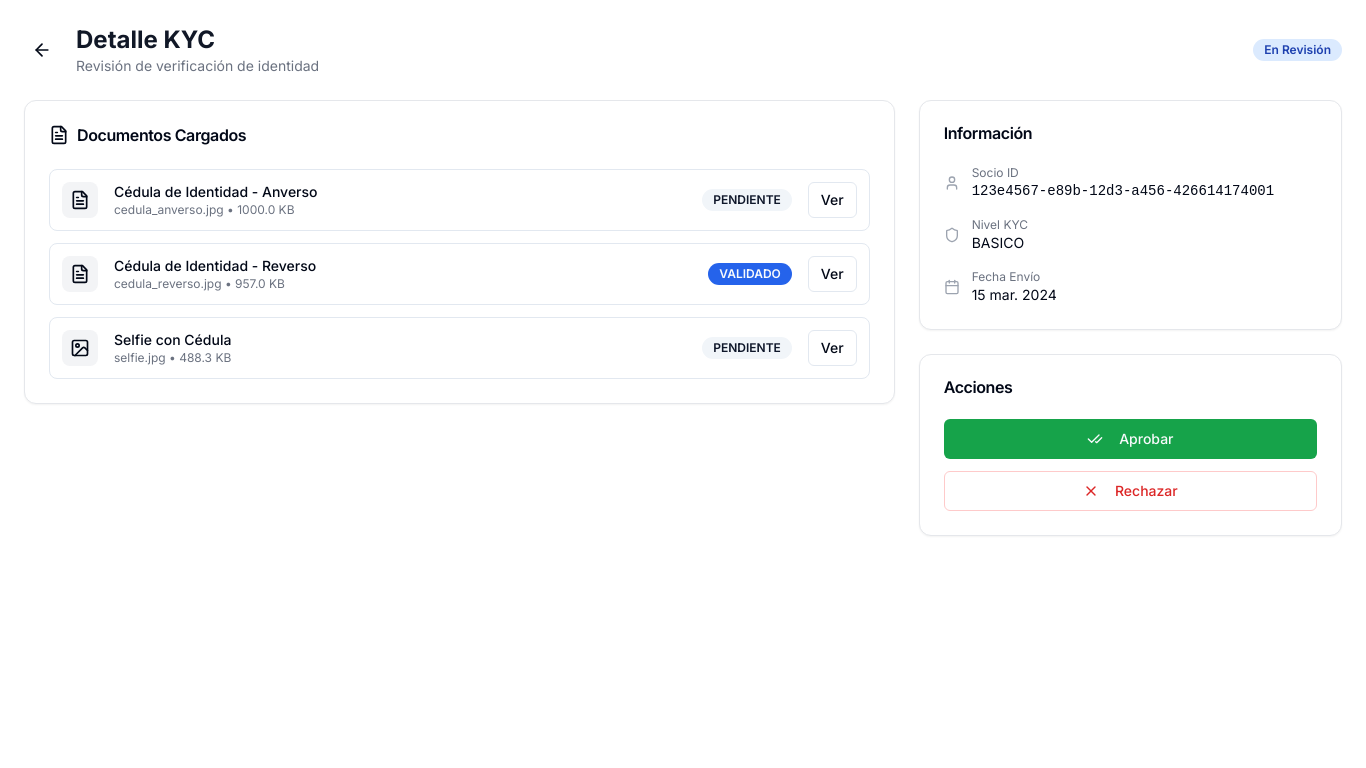
Test case: AdminKYCDetallePagina - Flujo Completo › 5. Flujo de Rechazo › debe abrir diálogo al hacer click en Rechazar
Click the button "Rechazar" at (1130, 491), box [944,471,1317,511]
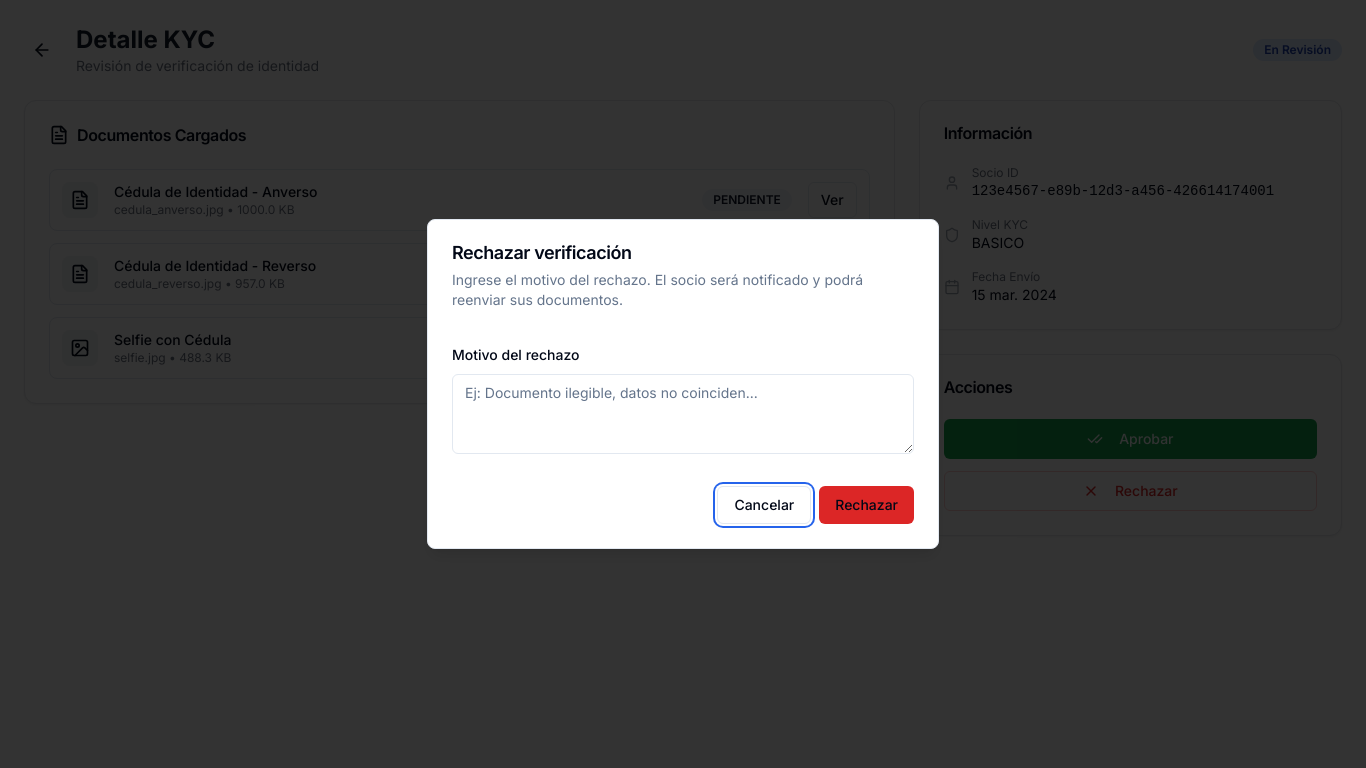
Expected: the heading "Rechazar verificación" is shown, [452,242,632,263]
